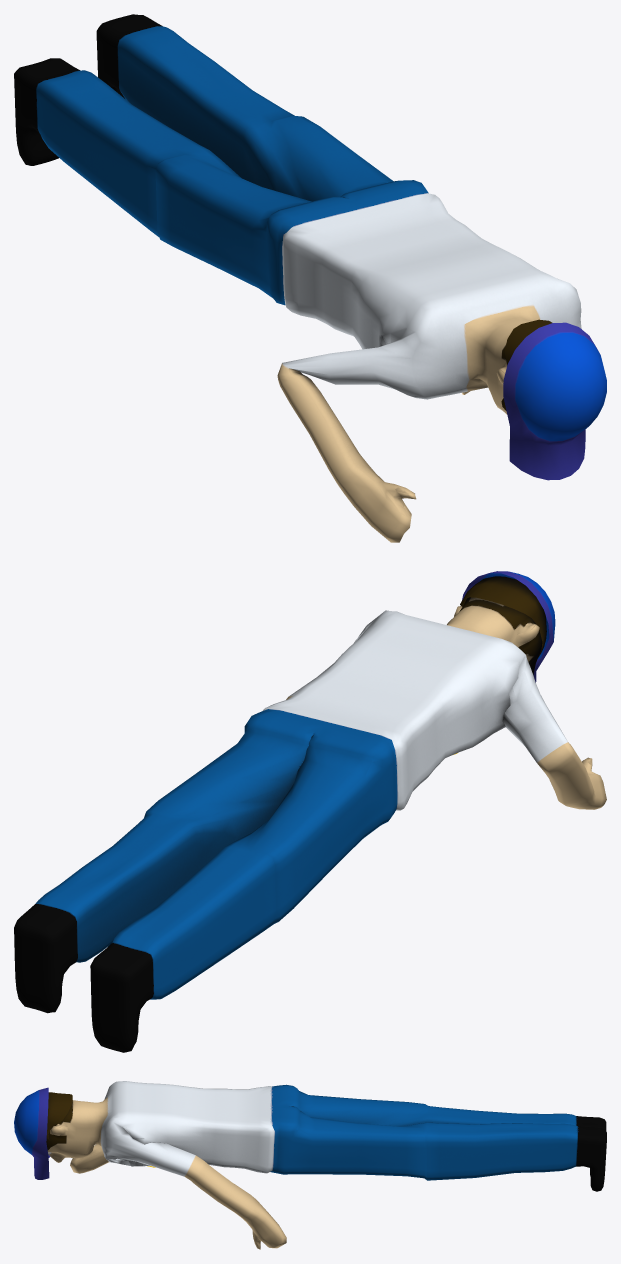
The model's file is brother.obj.
The picture shows the model from 3 angles, top to bottom: view 1: azimuth 30°, elevation 25°; view 2: azimuth 150°, elevation 25°; view 3: azimuth 270°, elevation 25°; orthographic projection. The views are drawn at different scales.
Visible parts, largest first — view 1: Plane001; view 2: Plane001; view 3: Plane001.
Boxes of the visible parts, box(x1,y1,x2,y2) form: Plane001: box(14, 14, 606, 542); Plane001: box(14, 571, 606, 1052); Plane001: box(14, 1081, 606, 1249).
Bounding box in the file's own units: 26.67 × 19.61 × 79.35.
1 material, 1 textured.
